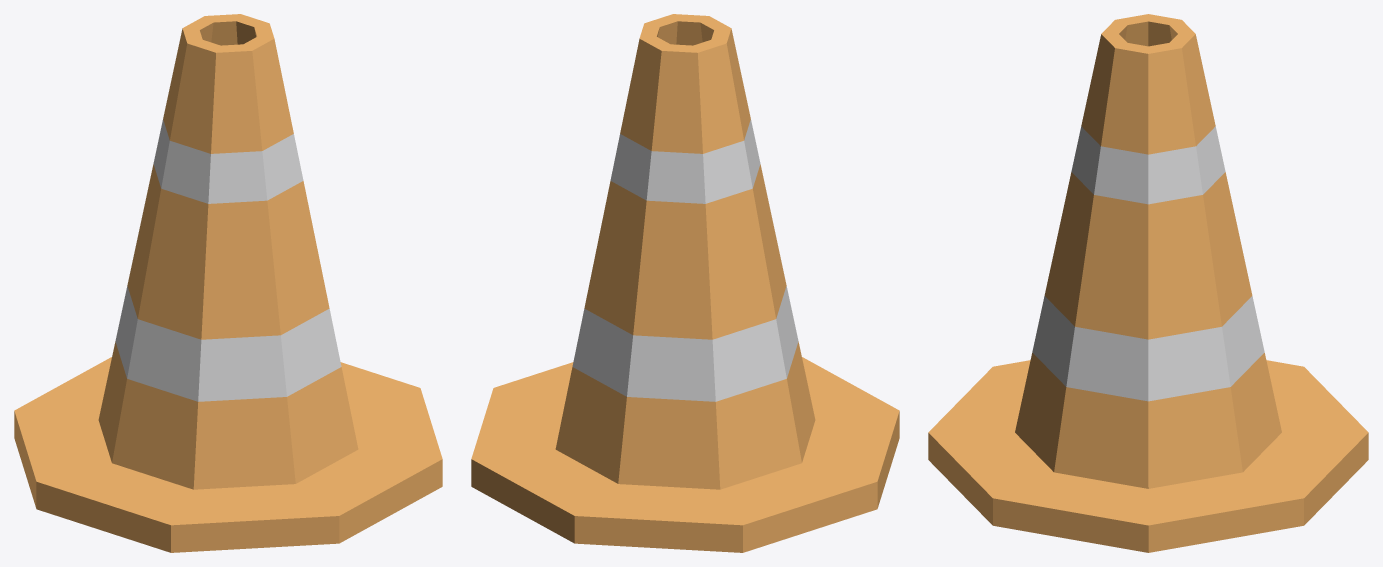
File: traffic-cone.fbx
3 views of the same model, side by side, from view 1: azimuth 30°, elevation 25°; view 2: azimuth 150°, elevation 25°; view 3: azimuth 270°, elevation 25° (orthographic).
Visible parts, largest first — view 1: 1.4 traffic-cone; view 2: 1.4 traffic-cone; view 3: 1.4 traffic-cone.
Part boxes in pixels (box(x1,y1,x2,y2)): 1.4 traffic-cone: box(14, 14, 442, 552); 1.4 traffic-cone: box(471, 14, 899, 552); 1.4 traffic-cone: box(928, 14, 1368, 552).
Size of the model in its own units: 0.5618 by 0.5998 by 0.5618.
